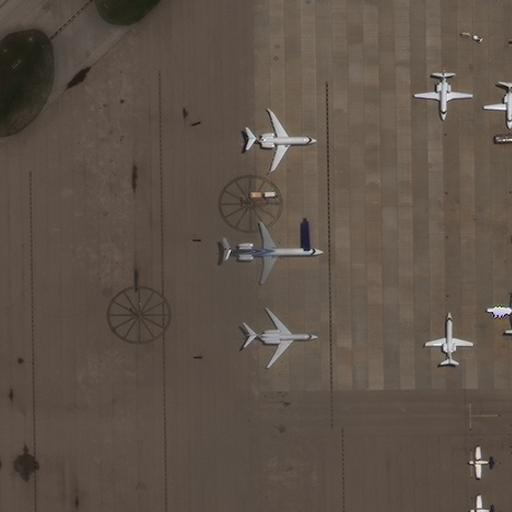Medium Civil Transport: (223, 222, 324, 284), (246, 109, 316, 171), (244, 308, 317, 366), (414, 68, 472, 120), (487, 293, 512, 331)
Small Civil Transport: (425, 311, 472, 364), (483, 82, 512, 129), (468, 447, 495, 478), (469, 496, 494, 511)
